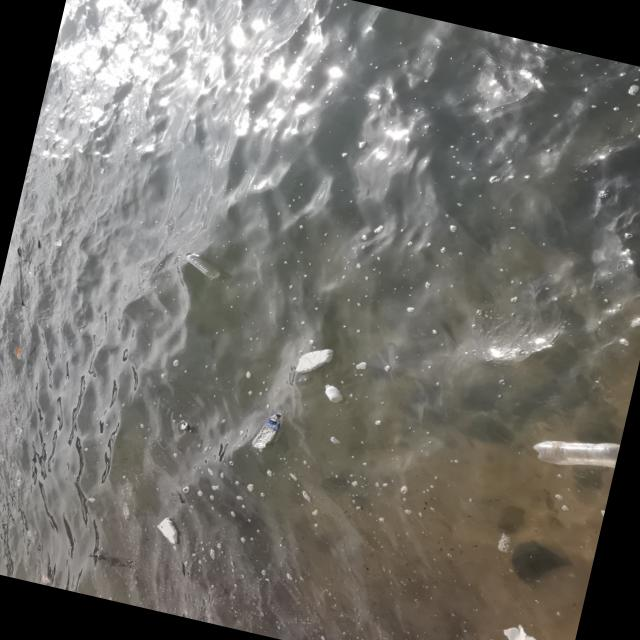can: (180, 420, 200, 434)
foam: (295, 342, 335, 379), (498, 621, 556, 640), (156, 515, 186, 546)
plastic bottle: (530, 424, 622, 477), (249, 409, 285, 452), (181, 251, 227, 282), (322, 383, 346, 403)
